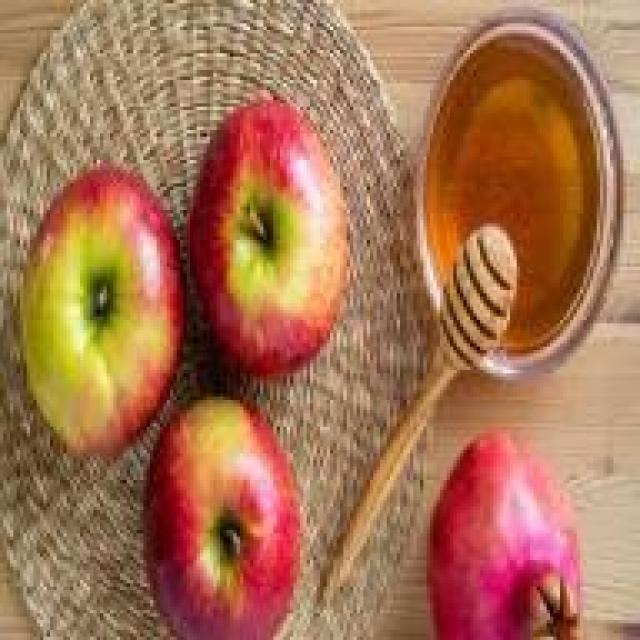apple: (194, 90, 354, 373), (20, 160, 180, 440), (136, 403, 306, 637), (434, 433, 584, 637)
